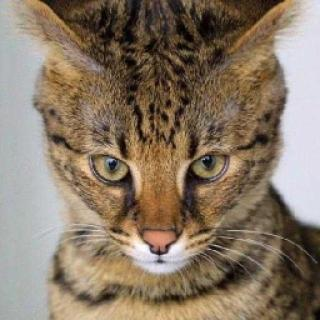cat: (14, 0, 296, 274)
nose: (136, 196, 189, 258)
